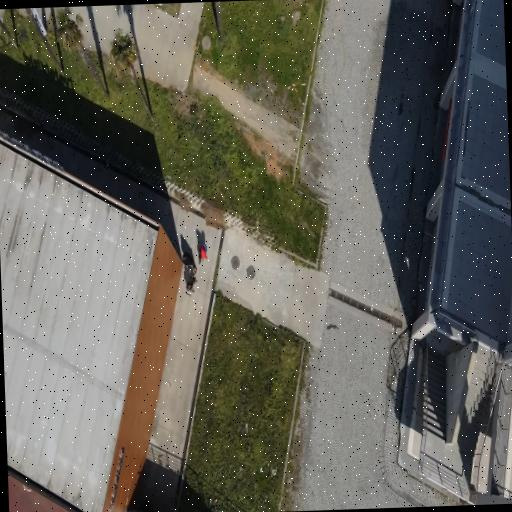person: (182, 252, 195, 273), (197, 243, 206, 266), (185, 275, 195, 295)
